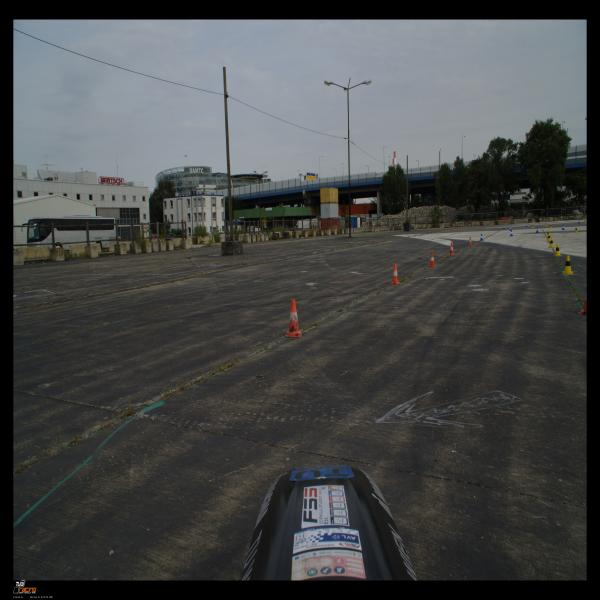blue_cone: (479, 233, 484, 241), (510, 230, 514, 236), (535, 227, 539, 233), (561, 224, 565, 230), (509, 226, 512, 231), (525, 223, 528, 227), (578, 219, 580, 224), (503, 225, 505, 229)
orange_cone: (284, 300, 302, 338), (389, 263, 402, 285), (576, 288, 586, 315), (427, 252, 437, 268), (449, 243, 455, 255), (468, 236, 473, 247)
yellow_cone: (562, 255, 574, 274), (552, 244, 562, 256), (548, 237, 554, 248), (546, 233, 551, 242), (574, 226, 578, 233), (546, 230, 549, 237), (531, 224, 534, 228), (549, 224, 552, 228), (545, 222, 547, 227), (584, 219, 586, 224)
